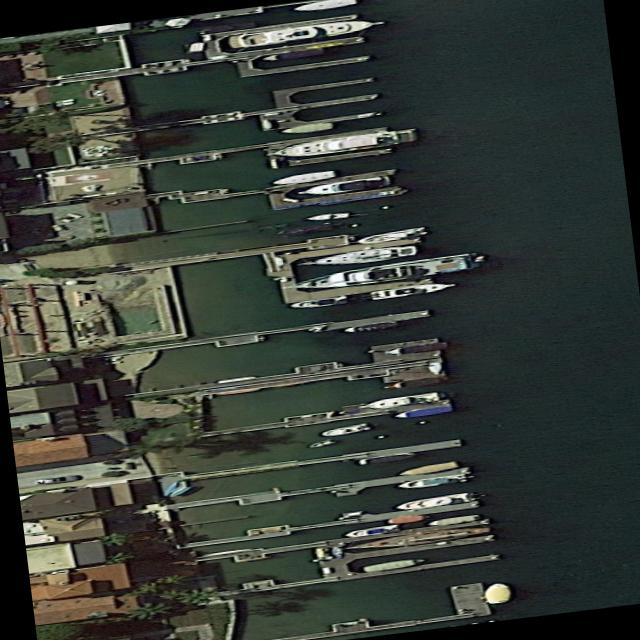ship: (293, 251, 481, 292), (228, 14, 387, 48), (270, 125, 419, 160), (337, 522, 491, 553), (291, 242, 417, 271), (294, 173, 391, 197), (392, 490, 477, 511), (368, 279, 455, 298), (362, 390, 438, 410), (350, 226, 429, 245), (269, 218, 342, 238), (394, 472, 468, 490), (268, 168, 337, 186), (394, 459, 459, 476), (361, 555, 426, 572), (257, 45, 325, 61), (378, 375, 444, 390), (386, 340, 449, 355), (392, 403, 454, 418), (316, 421, 373, 437), (357, 450, 416, 465), (287, 294, 346, 309), (342, 522, 400, 537), (340, 319, 398, 333), (290, 0, 357, 12), (278, 120, 334, 134), (482, 580, 513, 604), (199, 21, 256, 34), (425, 512, 481, 525), (387, 512, 431, 523), (303, 211, 351, 220), (304, 436, 341, 447), (426, 359, 445, 374)
small-vehicle: (29, 472, 79, 485)
